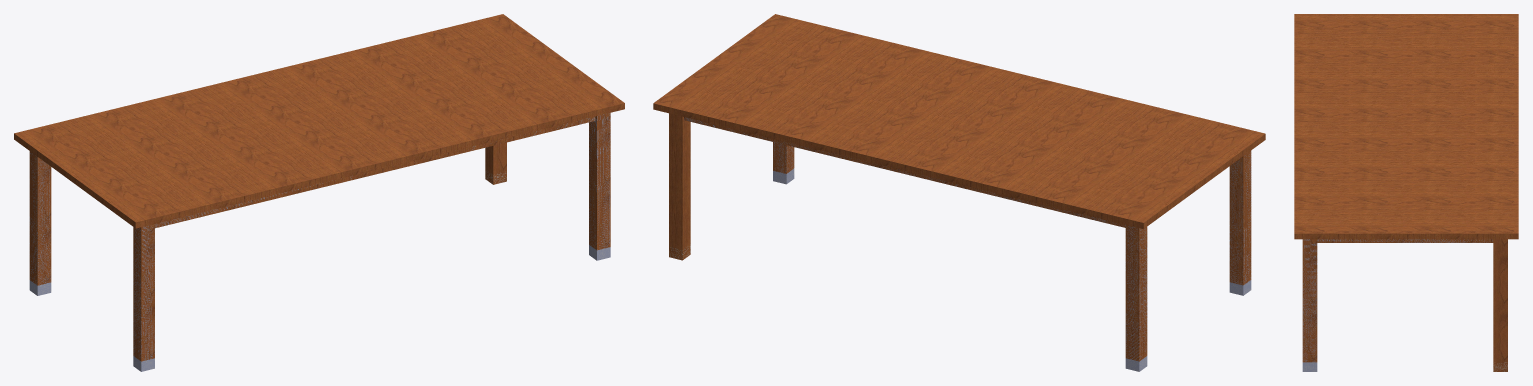
Rendered from OfficeTable.fbx.
3 views of the same model, side by side, from view 1: azimuth 30°, elevation 25°; view 2: azimuth 150°, elevation 25°; view 3: azimuth 270°, elevation 25° (orthographic). The views are drawn at different scales.
Parts seen in each view (by area): view 1: VPlank1, HPoot3, HPoot4, HPoot2, DragerLang1, HPoot1; view 2: VPlank1, HPoot2, HPoot3, HPoot1, DragerLang2, HPoot4; view 3: VPlank1, HPoot4, HPoot1, DragerKort1.
Part boxes in pixels (<box>): VPlank1: <box>14,14,624,228</box>; HPoot3: <box>133,224,154,371</box>; HPoot4: <box>589,113,610,260</box>; HPoot2: <box>29,151,51,295</box>; DragerLang1: <box>155,116,595,228</box>; HPoot1: <box>485,142,506,184</box>; VPlank1: <box>653,14,1265,228</box>; HPoot2: <box>1125,225,1147,371</box>; HPoot3: <box>1229,150,1251,295</box>; HPoot1: <box>669,113,690,260</box>; DragerLang2: <box>684,117,1125,227</box>; HPoot4: <box>773,142,794,184</box>; VPlank1: <box>1294,14,1518,239</box>; HPoot4: <box>1302,239,1317,371</box>; HPoot1: <box>1493,239,1507,371</box>; DragerKort1: <box>1317,239,1493,242</box>.
Size of the model in its own units: 2.51 by 0.76 by 1.08.
